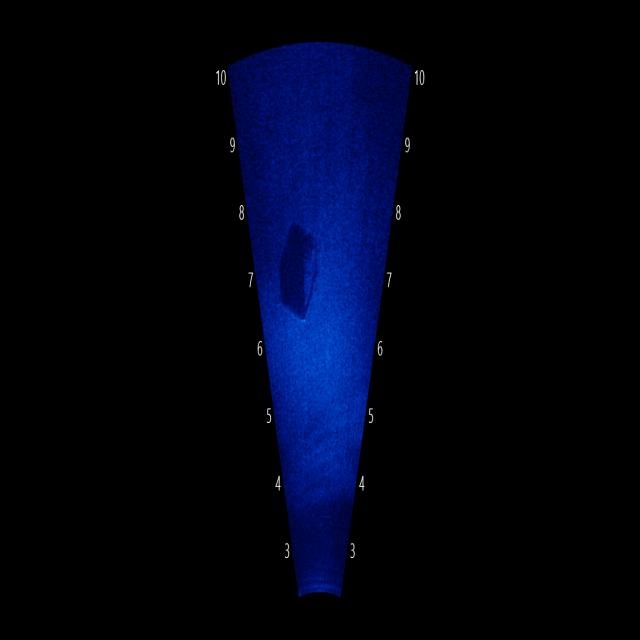square: (276, 213, 322, 335)
